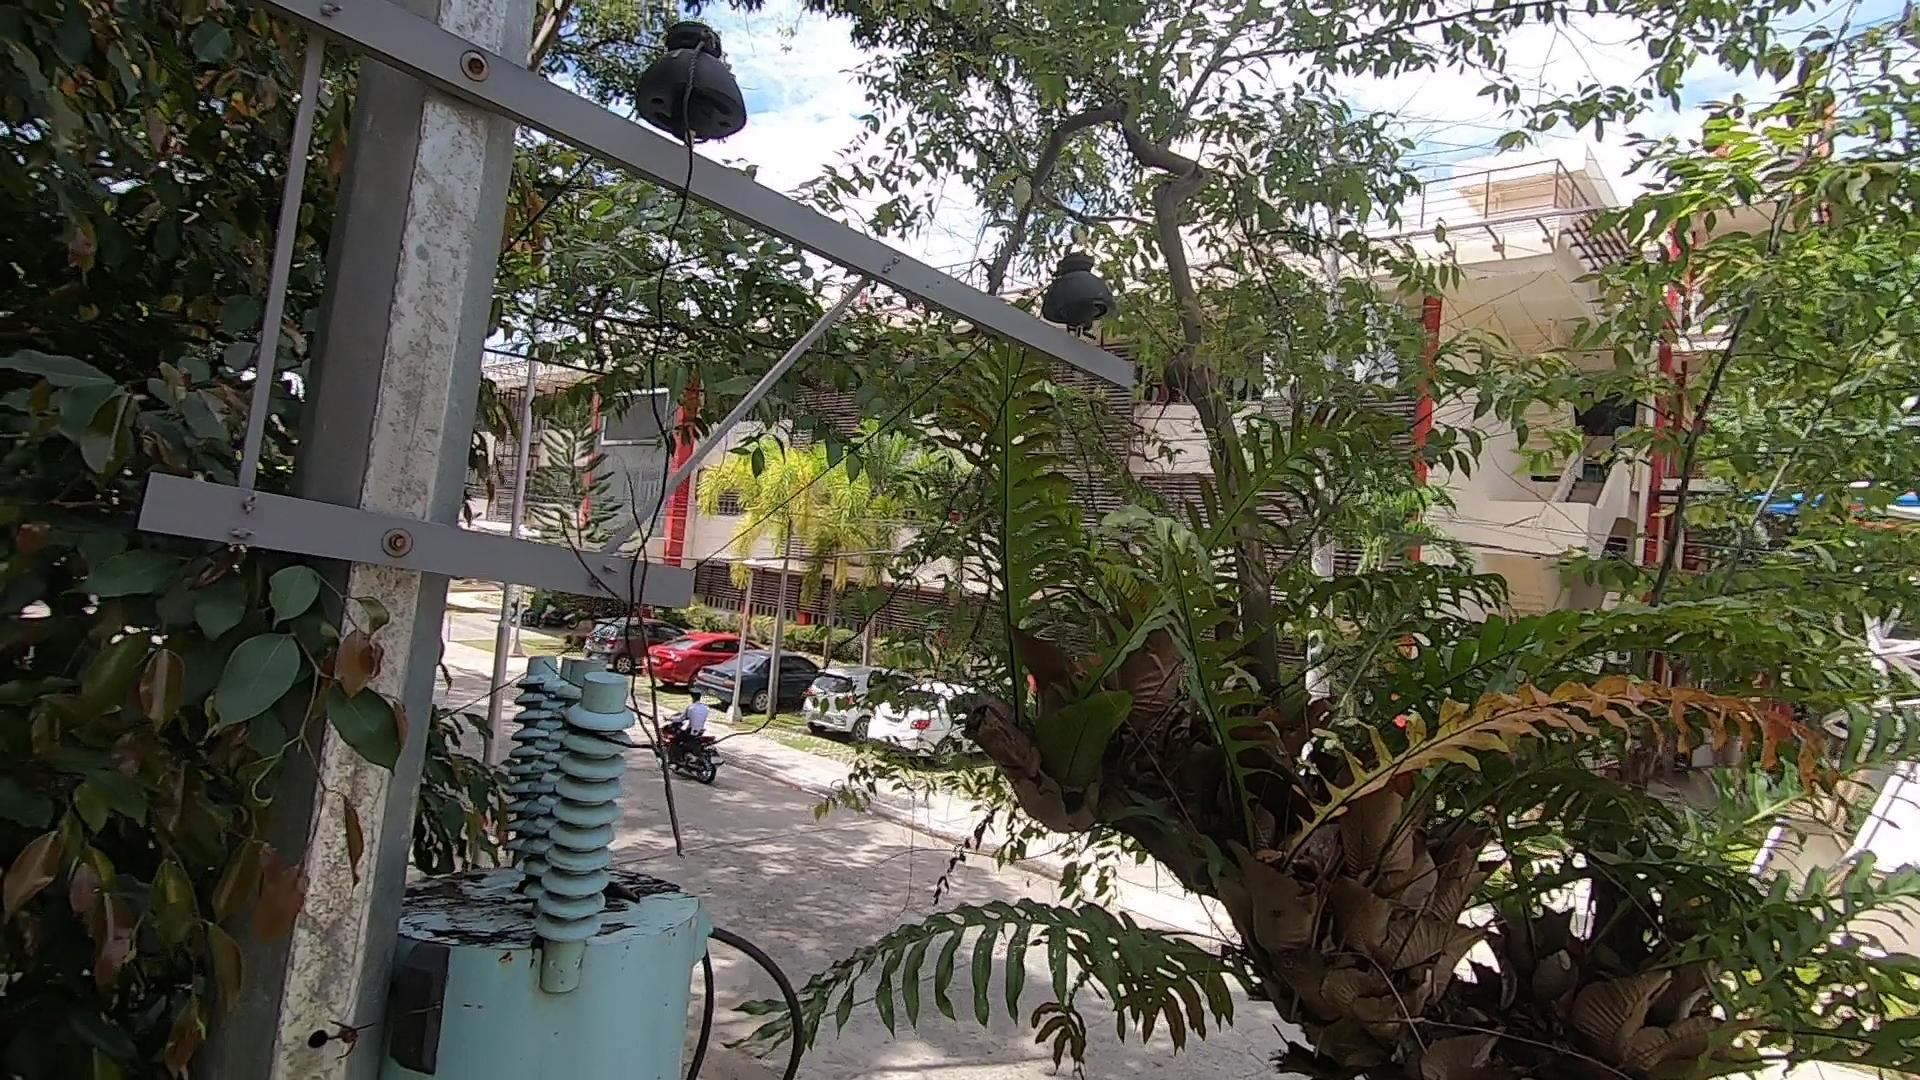leaf: (597, 876, 651, 910)
tree branch: (560, 452, 702, 855)
